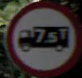Heavy Vehicles: (10, 4, 74, 66)
